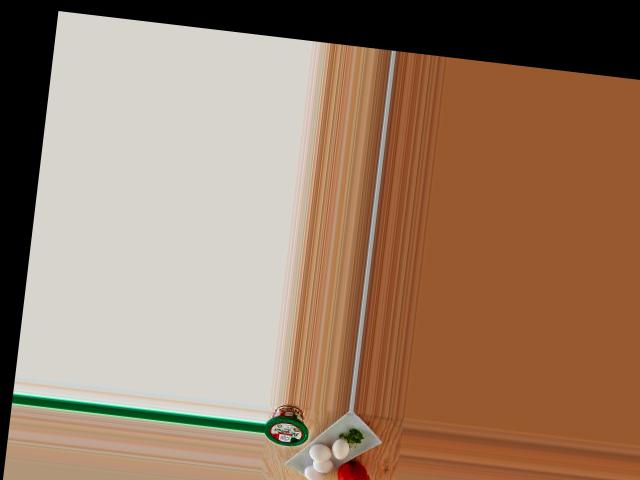bell_pepper: (328, 459, 376, 480)
